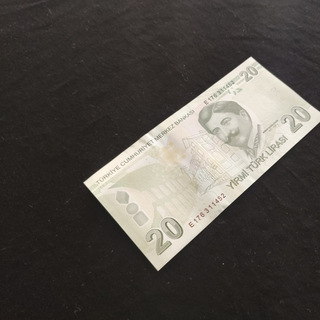20TLBack: (82, 56, 320, 271)
